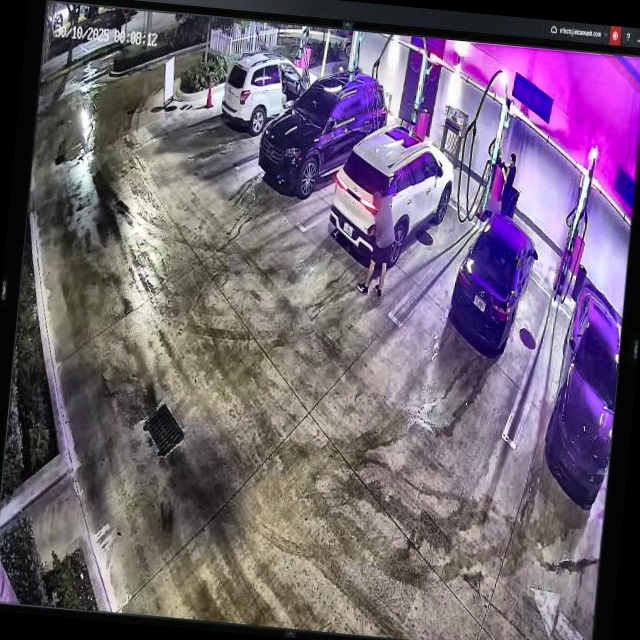Car: (328, 120, 461, 272), (258, 68, 391, 199), (447, 205, 541, 354)
